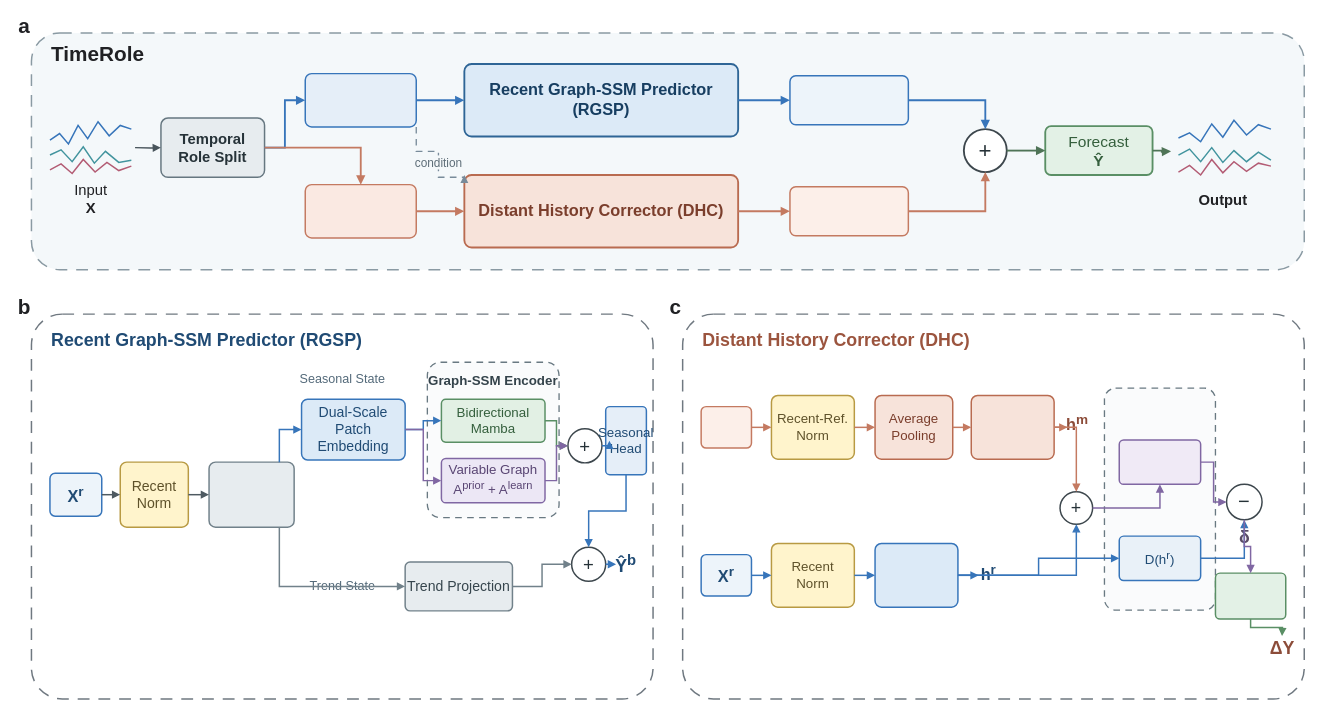
Some shapes in this 1317 by 712 pixel diagram are drawn without their labels. The shapes that lost their labels are listed below. From the top down, each one's box as (x1, y1, x2, y2) in pixels, then its label:
(304, 73, 417, 127): Recent Window X r
(789, 75, 909, 125): Base Forecast Ŷ b
(304, 184, 417, 238): Distant History X d
(789, 186, 909, 236): Correction ΔY
(700, 406, 752, 448): X d
(970, 394, 1054, 460): Memory Projection
(1118, 439, 1201, 485): D(h r + h m )
(208, 461, 295, 528): Series Decomposition
(1103, 387, 1216, 610): Shared Decoder D(·)
(874, 542, 958, 608): Recent Projection
(1214, 572, 1286, 619): tanh(a) · σ
